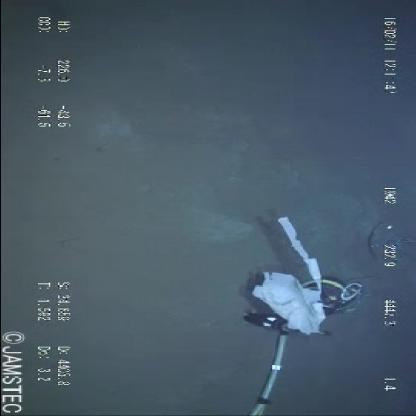Rác: (248, 214, 338, 337)
